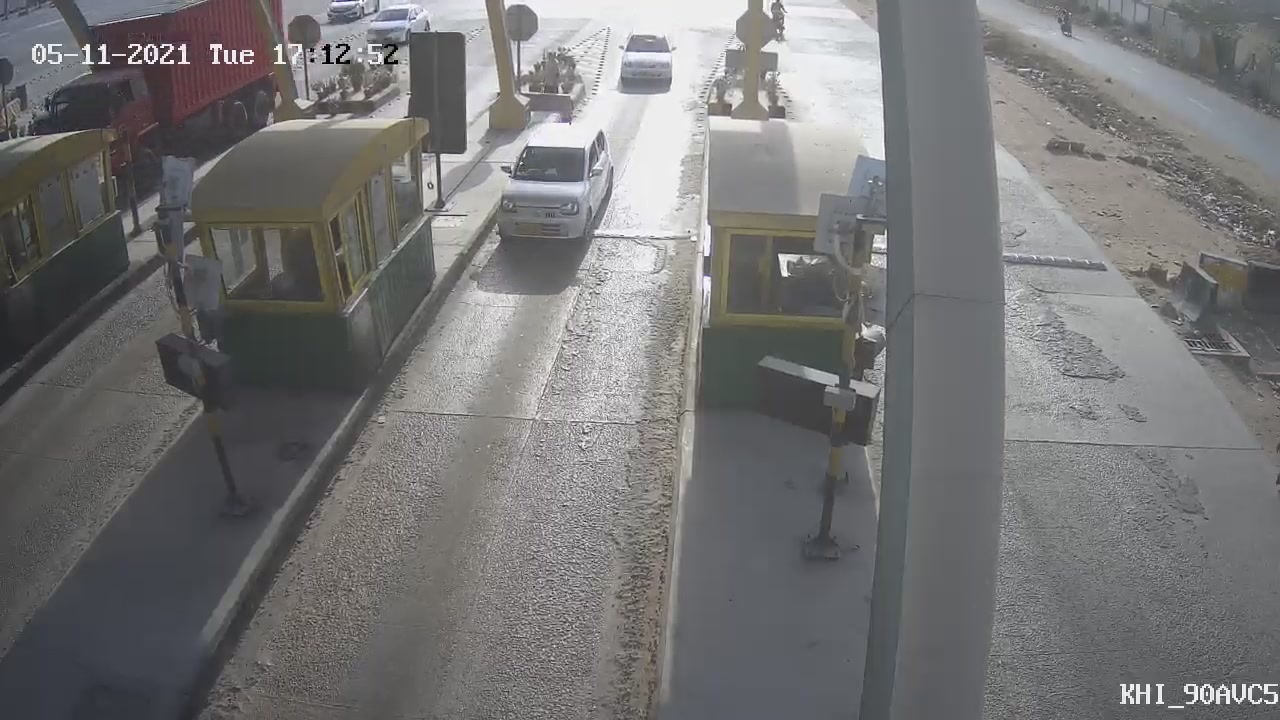F1: (476, 111, 633, 262)
